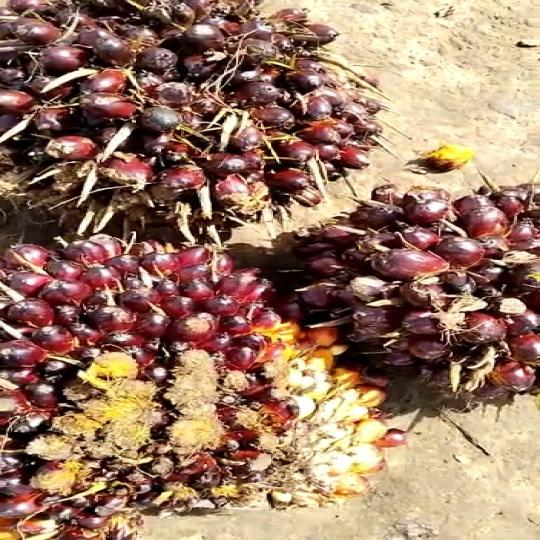kurang masak: (0, 216, 393, 540), (0, 0, 380, 216), (252, 160, 540, 397)
